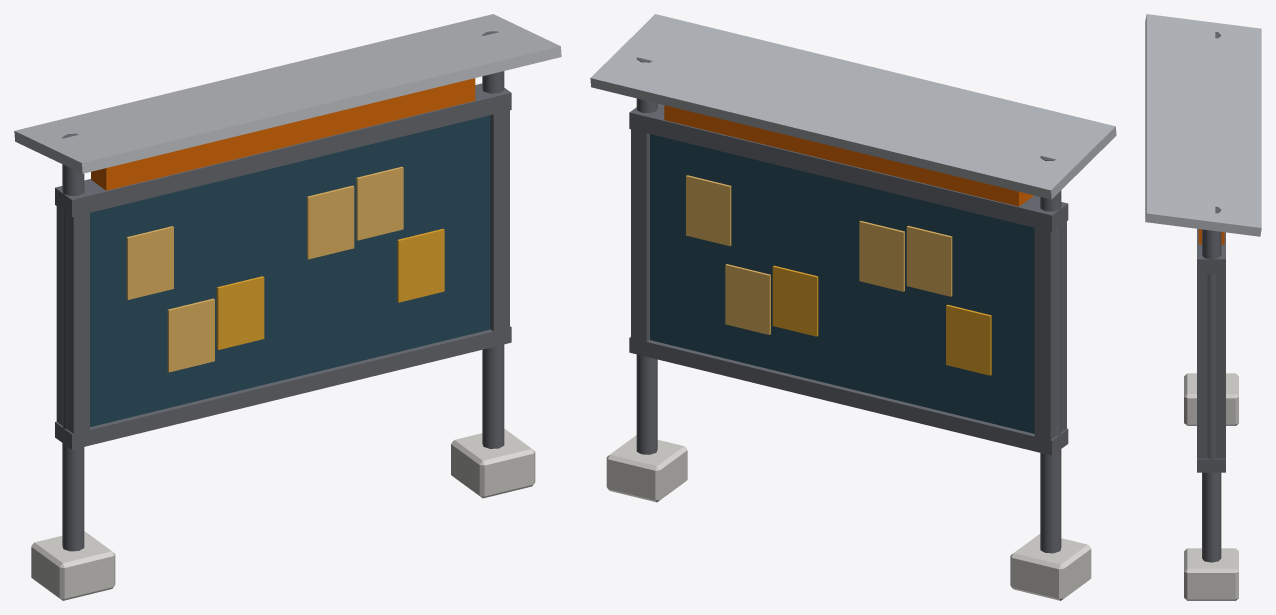
File: SM_JobBoard.fbx
3 views of the same model, side by side, from view 1: azimuth 30°, elevation 25°; view 2: azimuth 150°, elevation 25°; view 3: azimuth 270°, elevation 25° (orthographic). The views are drawn at different scales.
Visible parts, largest first — view 1: SM_JobBoard; view 2: SM_JobBoard; view 3: SM_JobBoard.
Part boxes in pixels (left/top/right/bottom): SM_JobBoard: left=14, top=14, right=561, bottom=600; SM_JobBoard: left=590, top=14, right=1116, bottom=600; SM_JobBoard: left=1145, top=14, right=1261, bottom=600.
Size of the model in its own units: 292 by 266 by 72.13.
